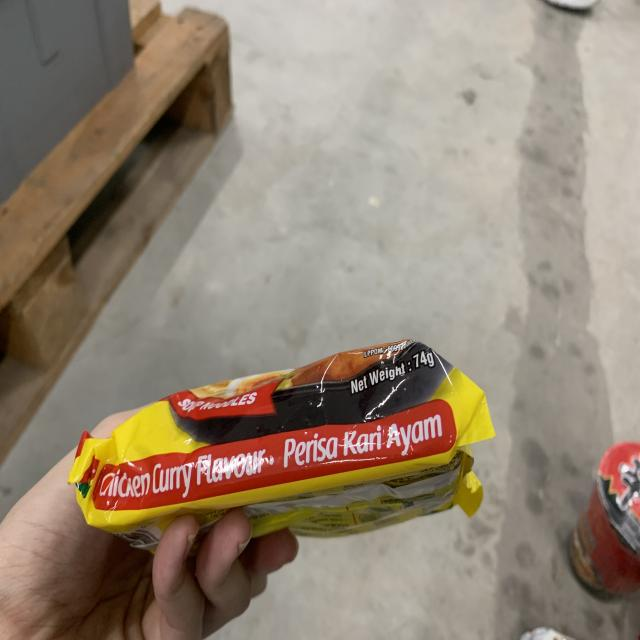object_name: (78, 380, 476, 516)
